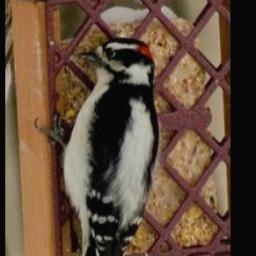Woodpecker: (35, 37, 158, 256)
